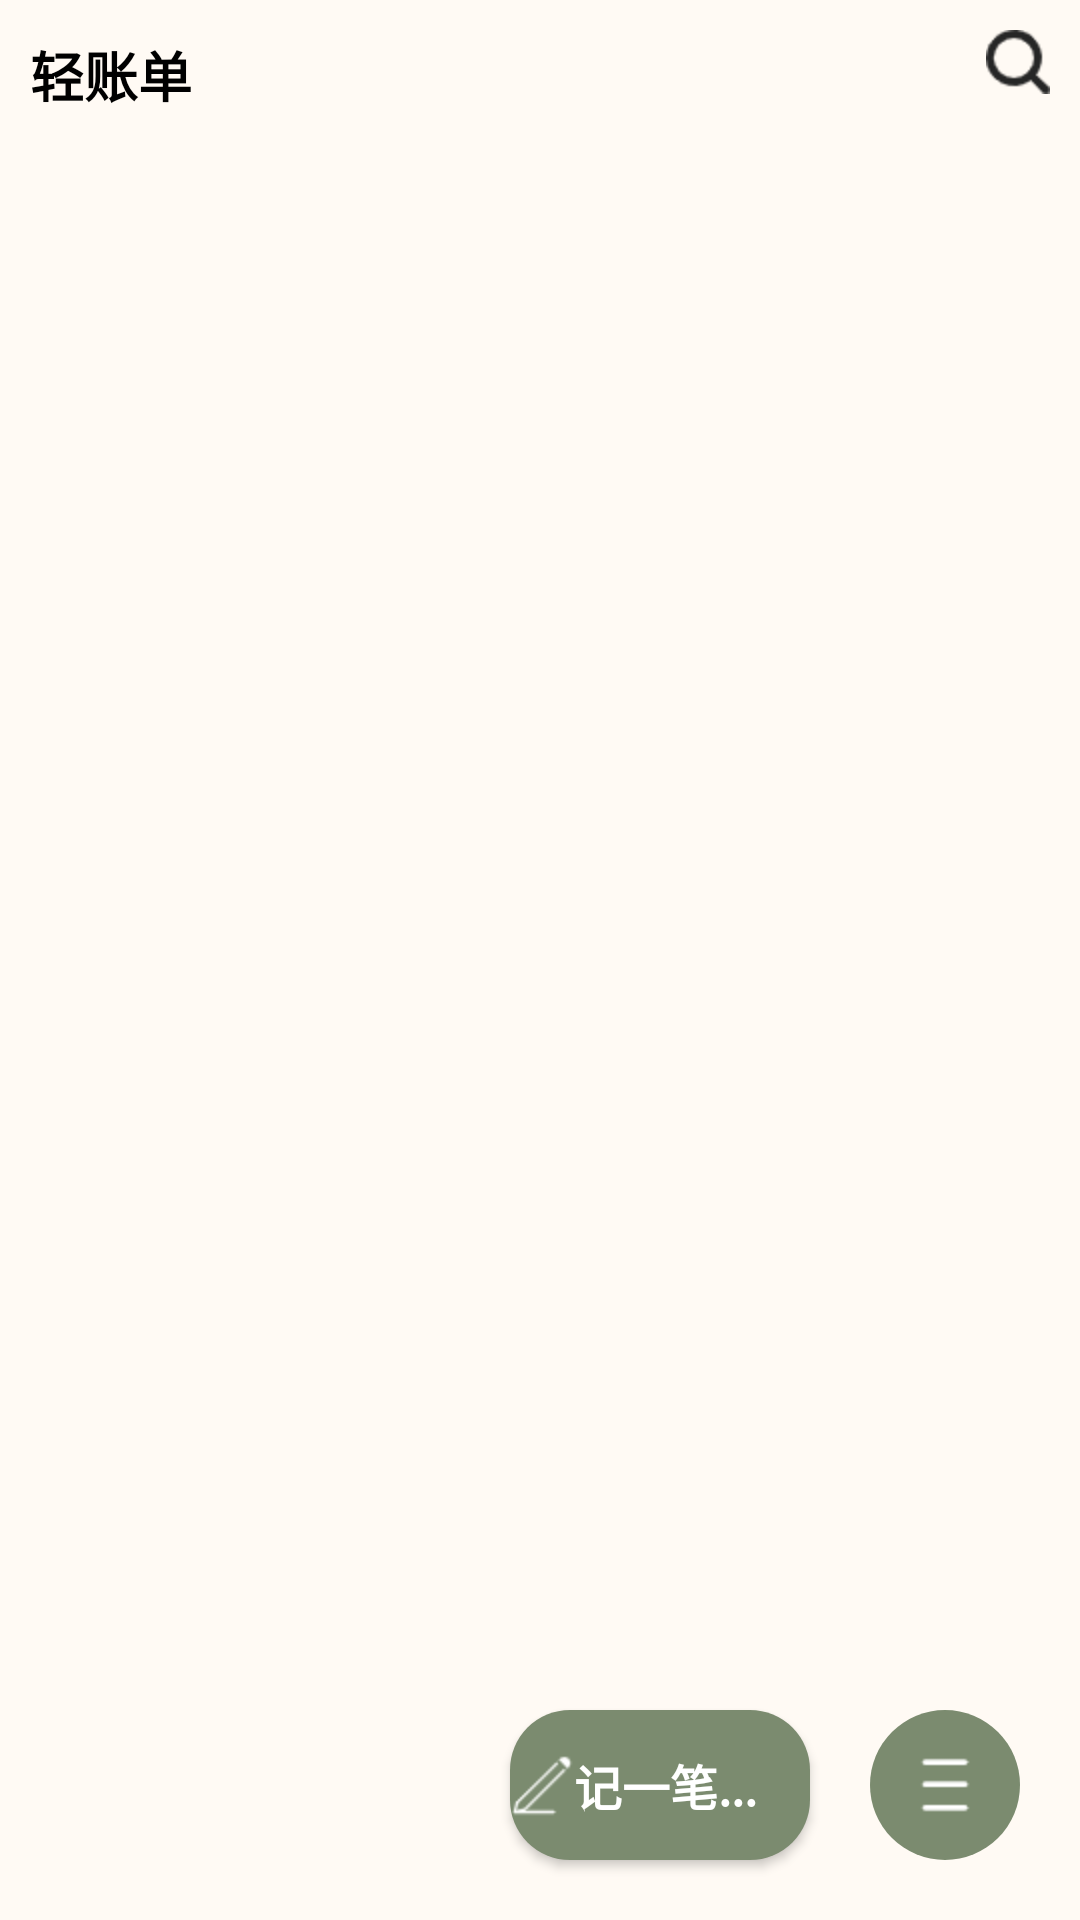

Icon bounding boxes for this 1080 x 1920 phone screenshot, format (x1, y1, x2, y2):
more: (870, 1710, 1020, 1860)
search: (986, 30, 1050, 94)
